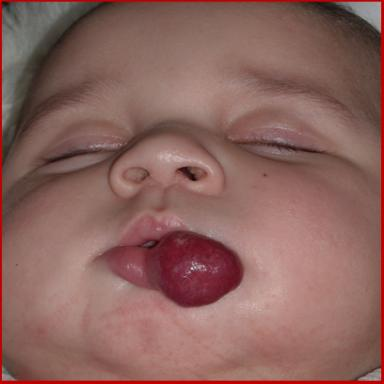Hemangiome: (147, 231, 243, 306)
